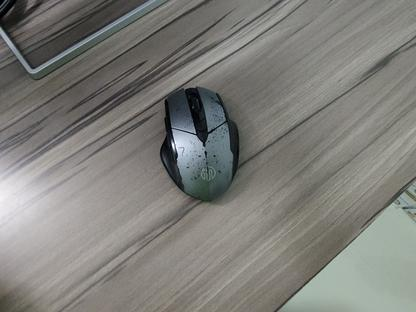mouse: (159, 85, 240, 202)
